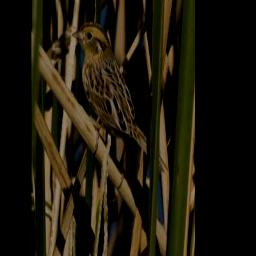Sparrow: (70, 19, 170, 177)
